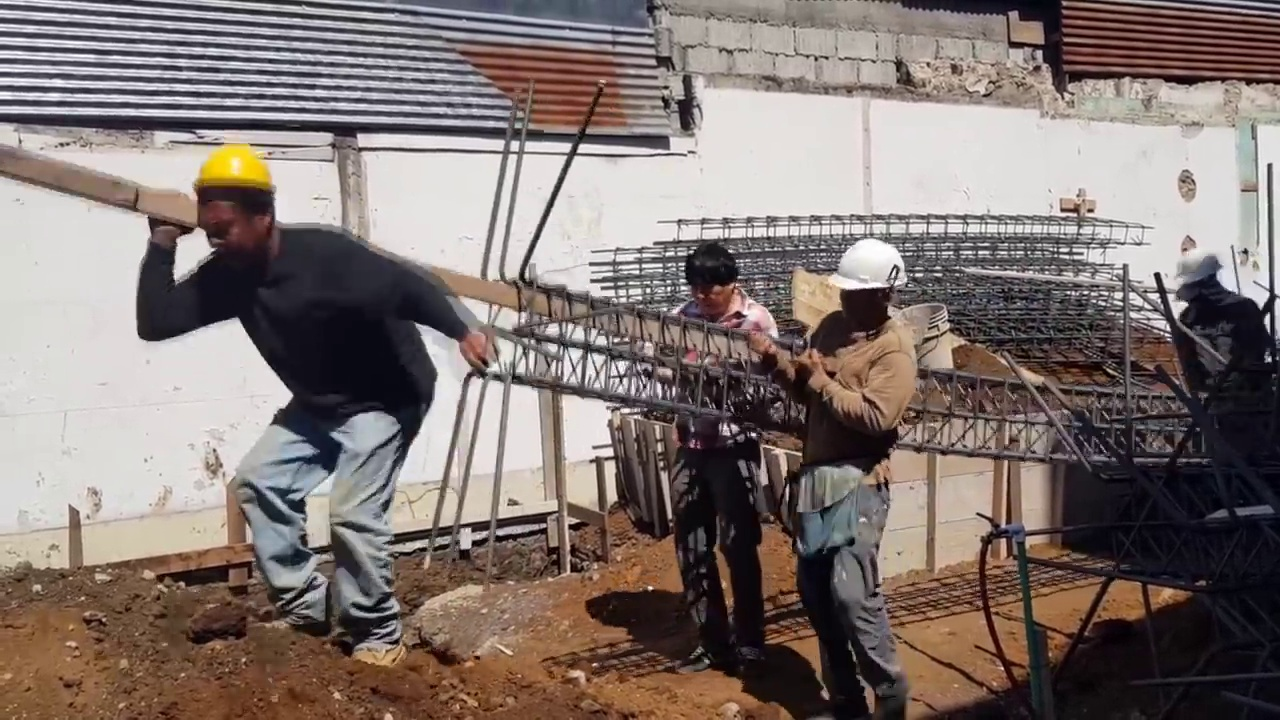helmet: (188, 140, 280, 197), (829, 234, 912, 293), (1173, 245, 1224, 287)
helmet-off: (682, 242, 741, 320)
helmet-on: (186, 142, 284, 267), (826, 231, 914, 335), (1172, 242, 1232, 309)
person: (134, 147, 498, 664), (742, 233, 916, 718), (649, 248, 777, 672), (1167, 240, 1274, 394)
